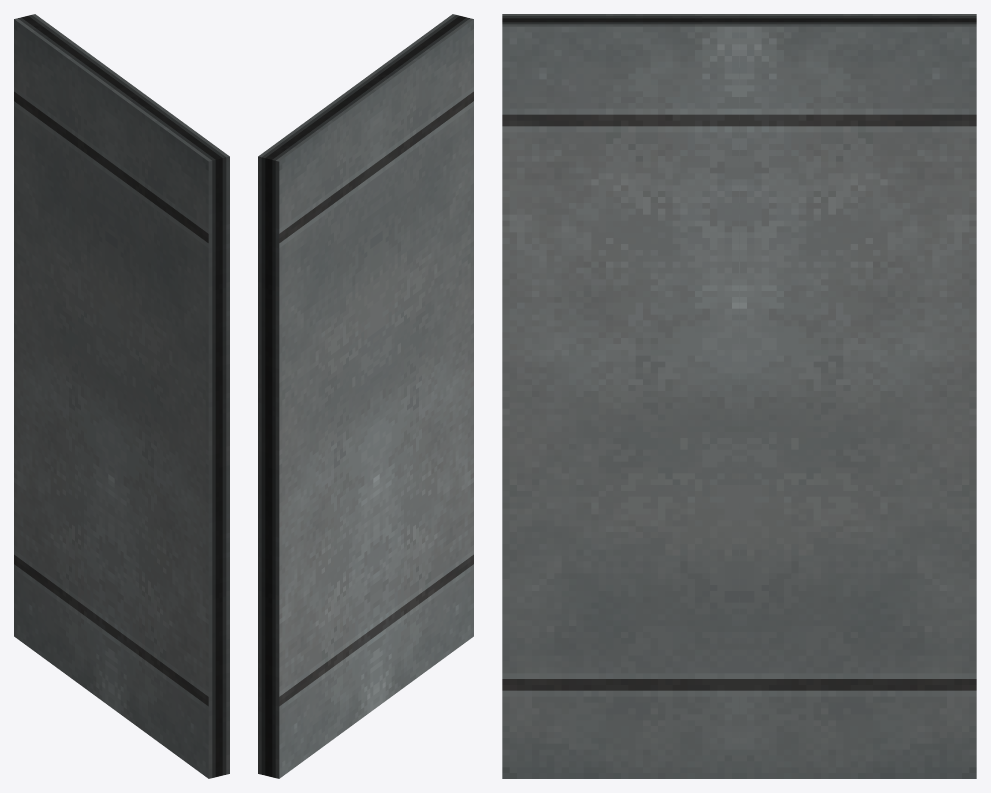
File: door_001.glb
The picture shows the model from 3 angles, left to right: view 1: azimuth 30°, elevation 25°; view 2: azimuth 150°, elevation 25°; view 3: azimuth 270°, elevation 25°; orthographic projection. The views are drawn at different scales.
Visible parts, largest first — view 1: Door_001, Door_001.001; view 2: Door_001.001, Door_001; view 3: Door_001, Door_001.001.
Part boxes in pixels (x1,y1,x2,y2): Door_001: (111, 85, 229, 778); Door_001.001: (14, 14, 131, 707); Door_001.001: (258, 85, 376, 778); Door_001: (356, 14, 473, 707); Door_001: (502, 14, 739, 778); Door_001.001: (739, 14, 976, 778).
Size of the model in its own units: 0.1 by 2.8 by 1.6.
1 material, 1 textured.
